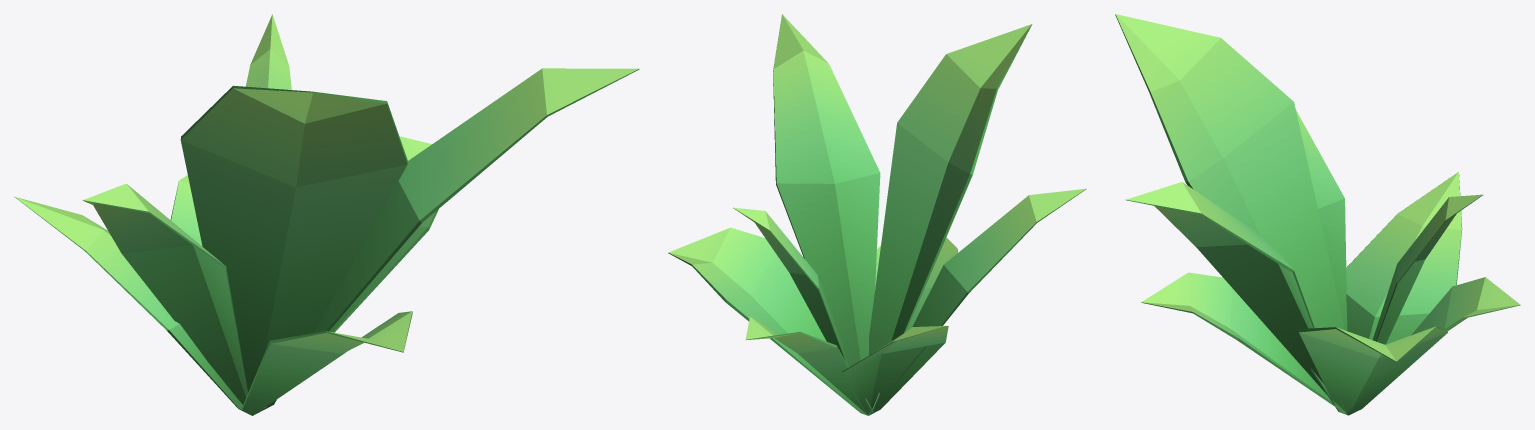
The model's file is GrassPatch3.fbx.
3 renders of one model, left to right at view 1: azimuth 30°, elevation 25°; view 2: azimuth 150°, elevation 25°; view 3: azimuth 270°, elevation 25°, orthographic. The views are drawn at different scales.
Visible parts, largest first — view 1: GrassPatch3; view 2: GrassPatch3; view 3: GrassPatch3.
Boxes of the visible parts, x1=… form: GrassPatch3: x1=14, y1=14, x2=639, y2=415; GrassPatch3: x1=668, y1=14, x2=1086, y2=415; GrassPatch3: x1=1115, y1=14, x2=1520, y2=415.
Size of the model in its own units: 34.15 by 30.1 by 29.98.
